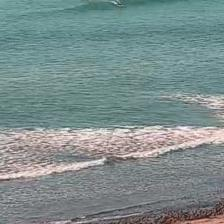surfer: (115, 1, 123, 6)
